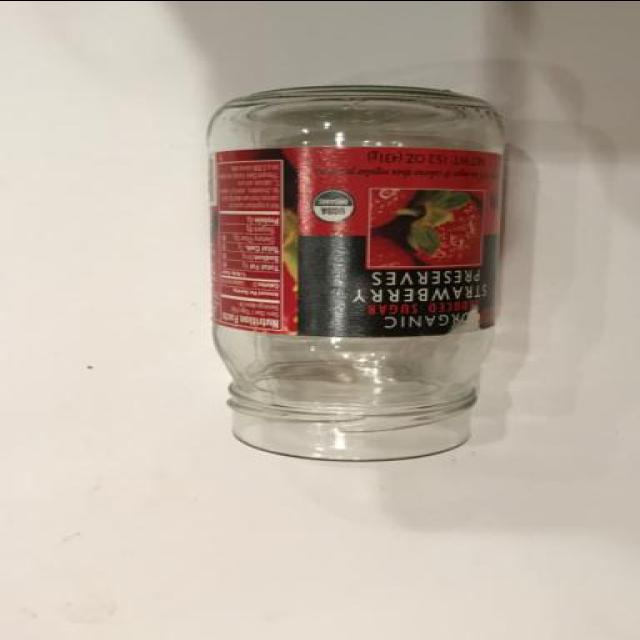litter: (207, 86, 505, 465)
